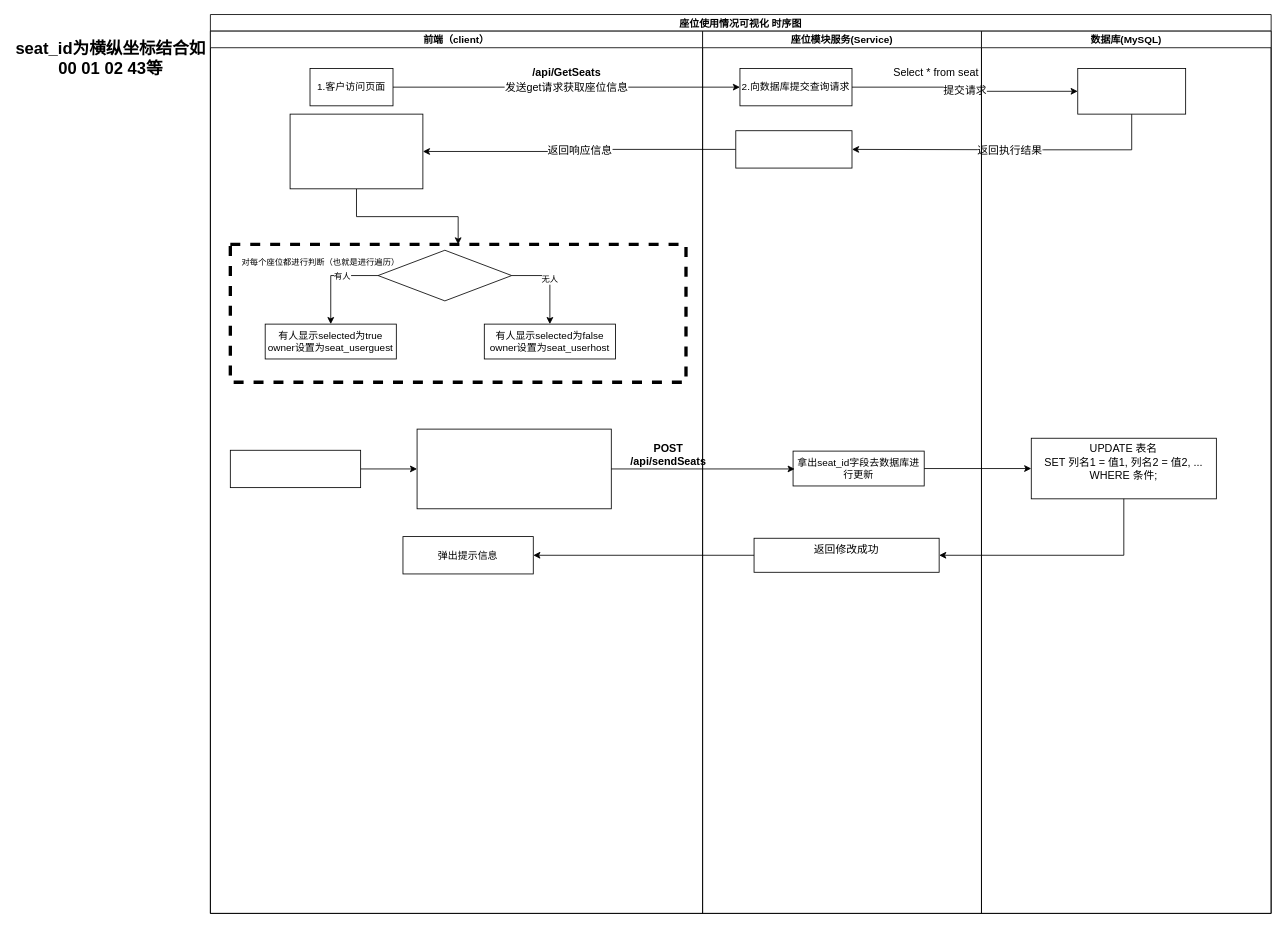
This 1286x928 diagram has some shape labels left out. The shapes that lost their labels are listed below. From the top down, each one's centre as x and y in pixels, then its label:
At pixel 1131 91: "3.数据库执行 相应的sql语句".
At pixel 356 151: "5.返回座位页面 seat_id 坐标 seat_userhost 拥有者 seat_userguest 目前使用者 seat_status 0没人 1有人".
At pixel 793 149: "4.return true 请求成功".
At pixel 444 275: "现在座位有人还是没人".
At pixel 295 468: "用户修改信息（任何）".
At pixel 513 468: "点击确定 打包被修改的座位信息发给后端 内容包括 坐标作为seat_id 元素的owner——当前的用户名 selected——是否被选中的状态".
